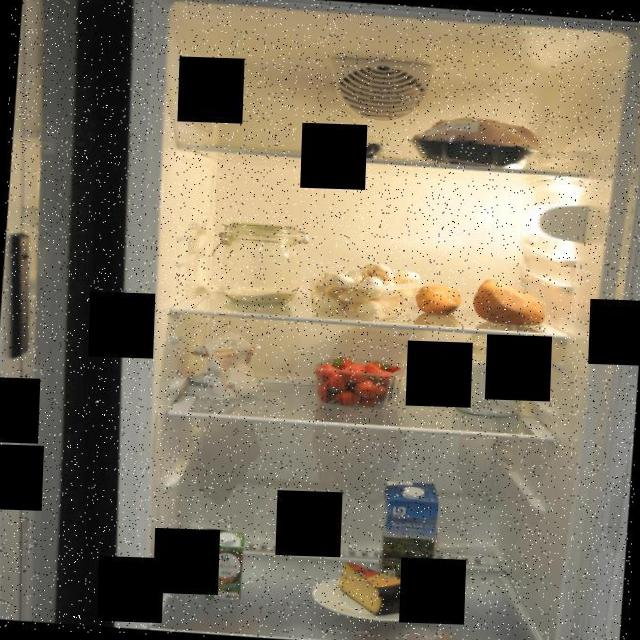Carne pollo: (403, 110, 547, 172)
Champiñones: (315, 255, 425, 325)
Leche: (375, 476, 441, 580)
Queso: (330, 559, 421, 620)
blueberries: (300, 130, 391, 160)
corn: (188, 526, 237, 573)
flour: (205, 217, 314, 309), (168, 326, 279, 404)
heavy_cream: (202, 529, 245, 601)
strawberries: (310, 352, 409, 412)
sugar: (450, 328, 528, 418)
sweet_potato: (466, 276, 554, 326), (416, 279, 464, 319)
